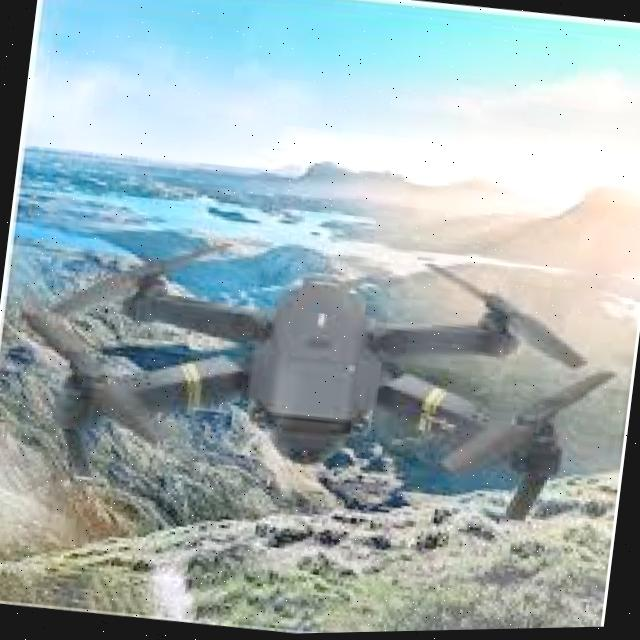drone: (0, 192, 632, 579)
